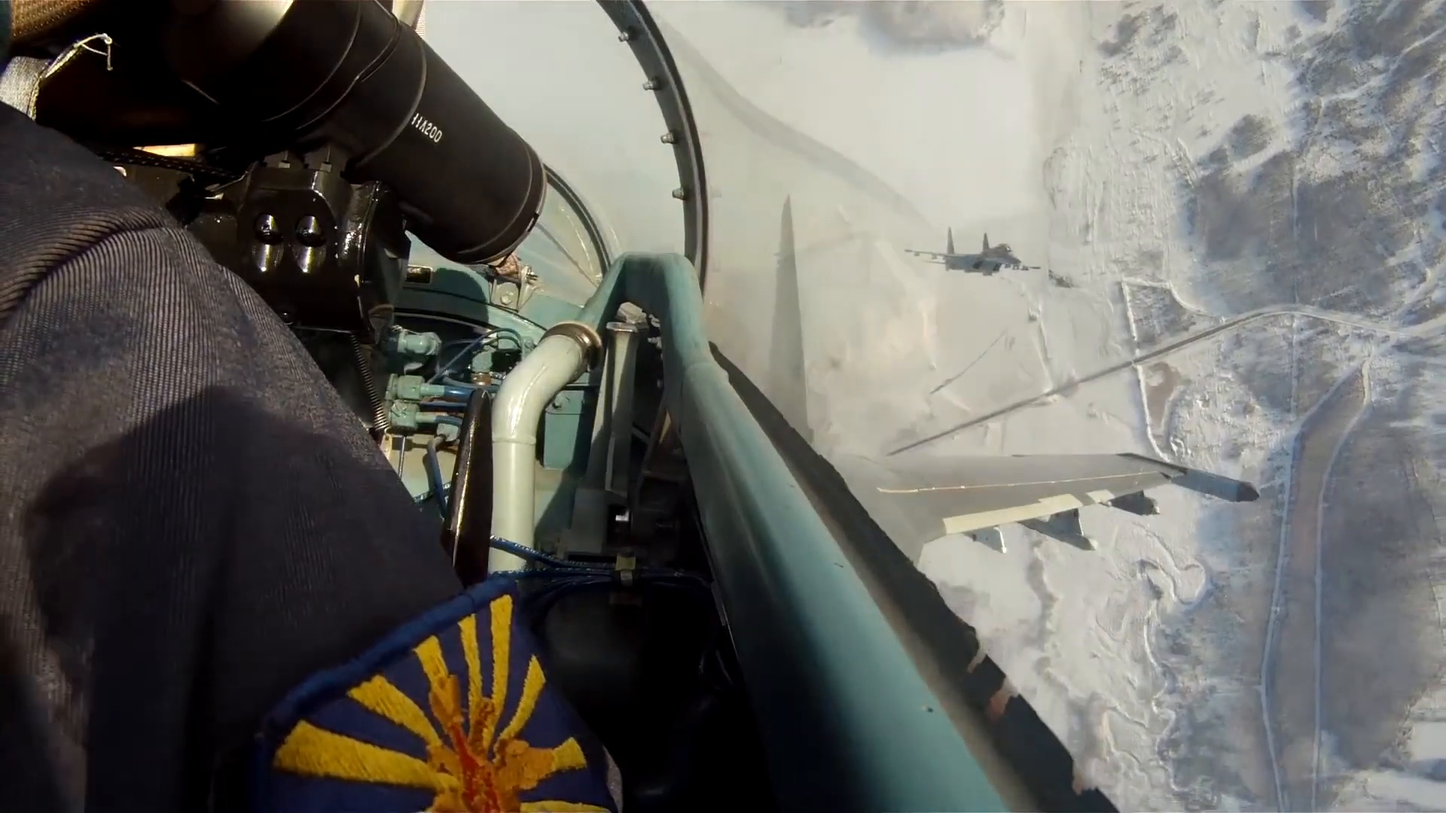Su35: (904, 227, 1043, 277)
